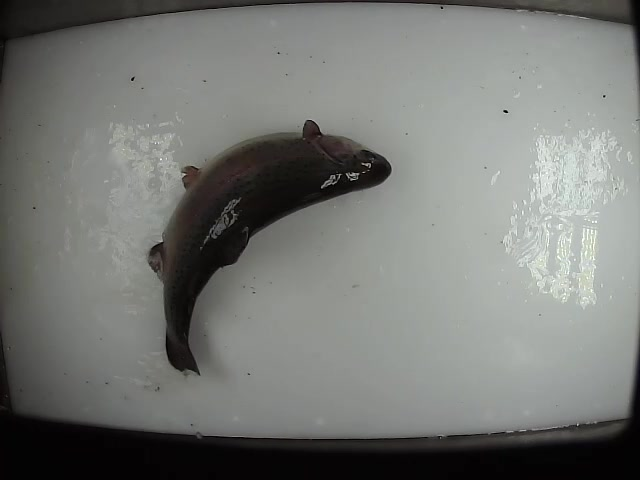Fish: (147, 117, 391, 374)
